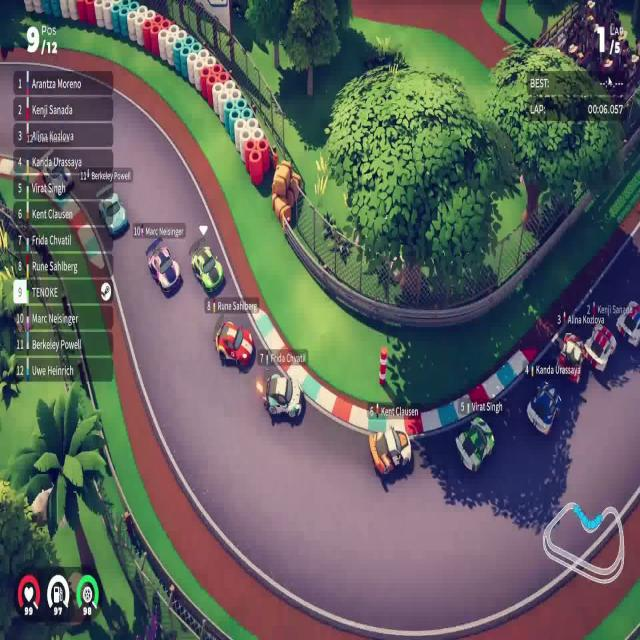car: (368, 424, 412, 478), (454, 415, 494, 473), (214, 319, 255, 371), (526, 379, 561, 436), (264, 371, 302, 420), (582, 322, 617, 373), (190, 244, 224, 295), (147, 244, 181, 295), (555, 332, 584, 384), (98, 190, 128, 240), (616, 299, 639, 348)
